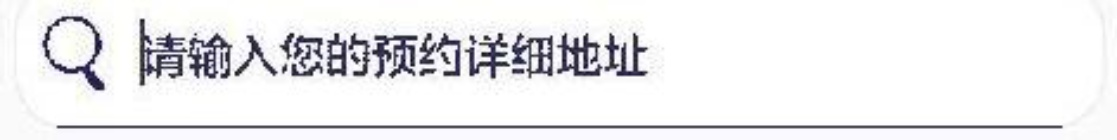EditText: (1, 1, 1116, 139)
